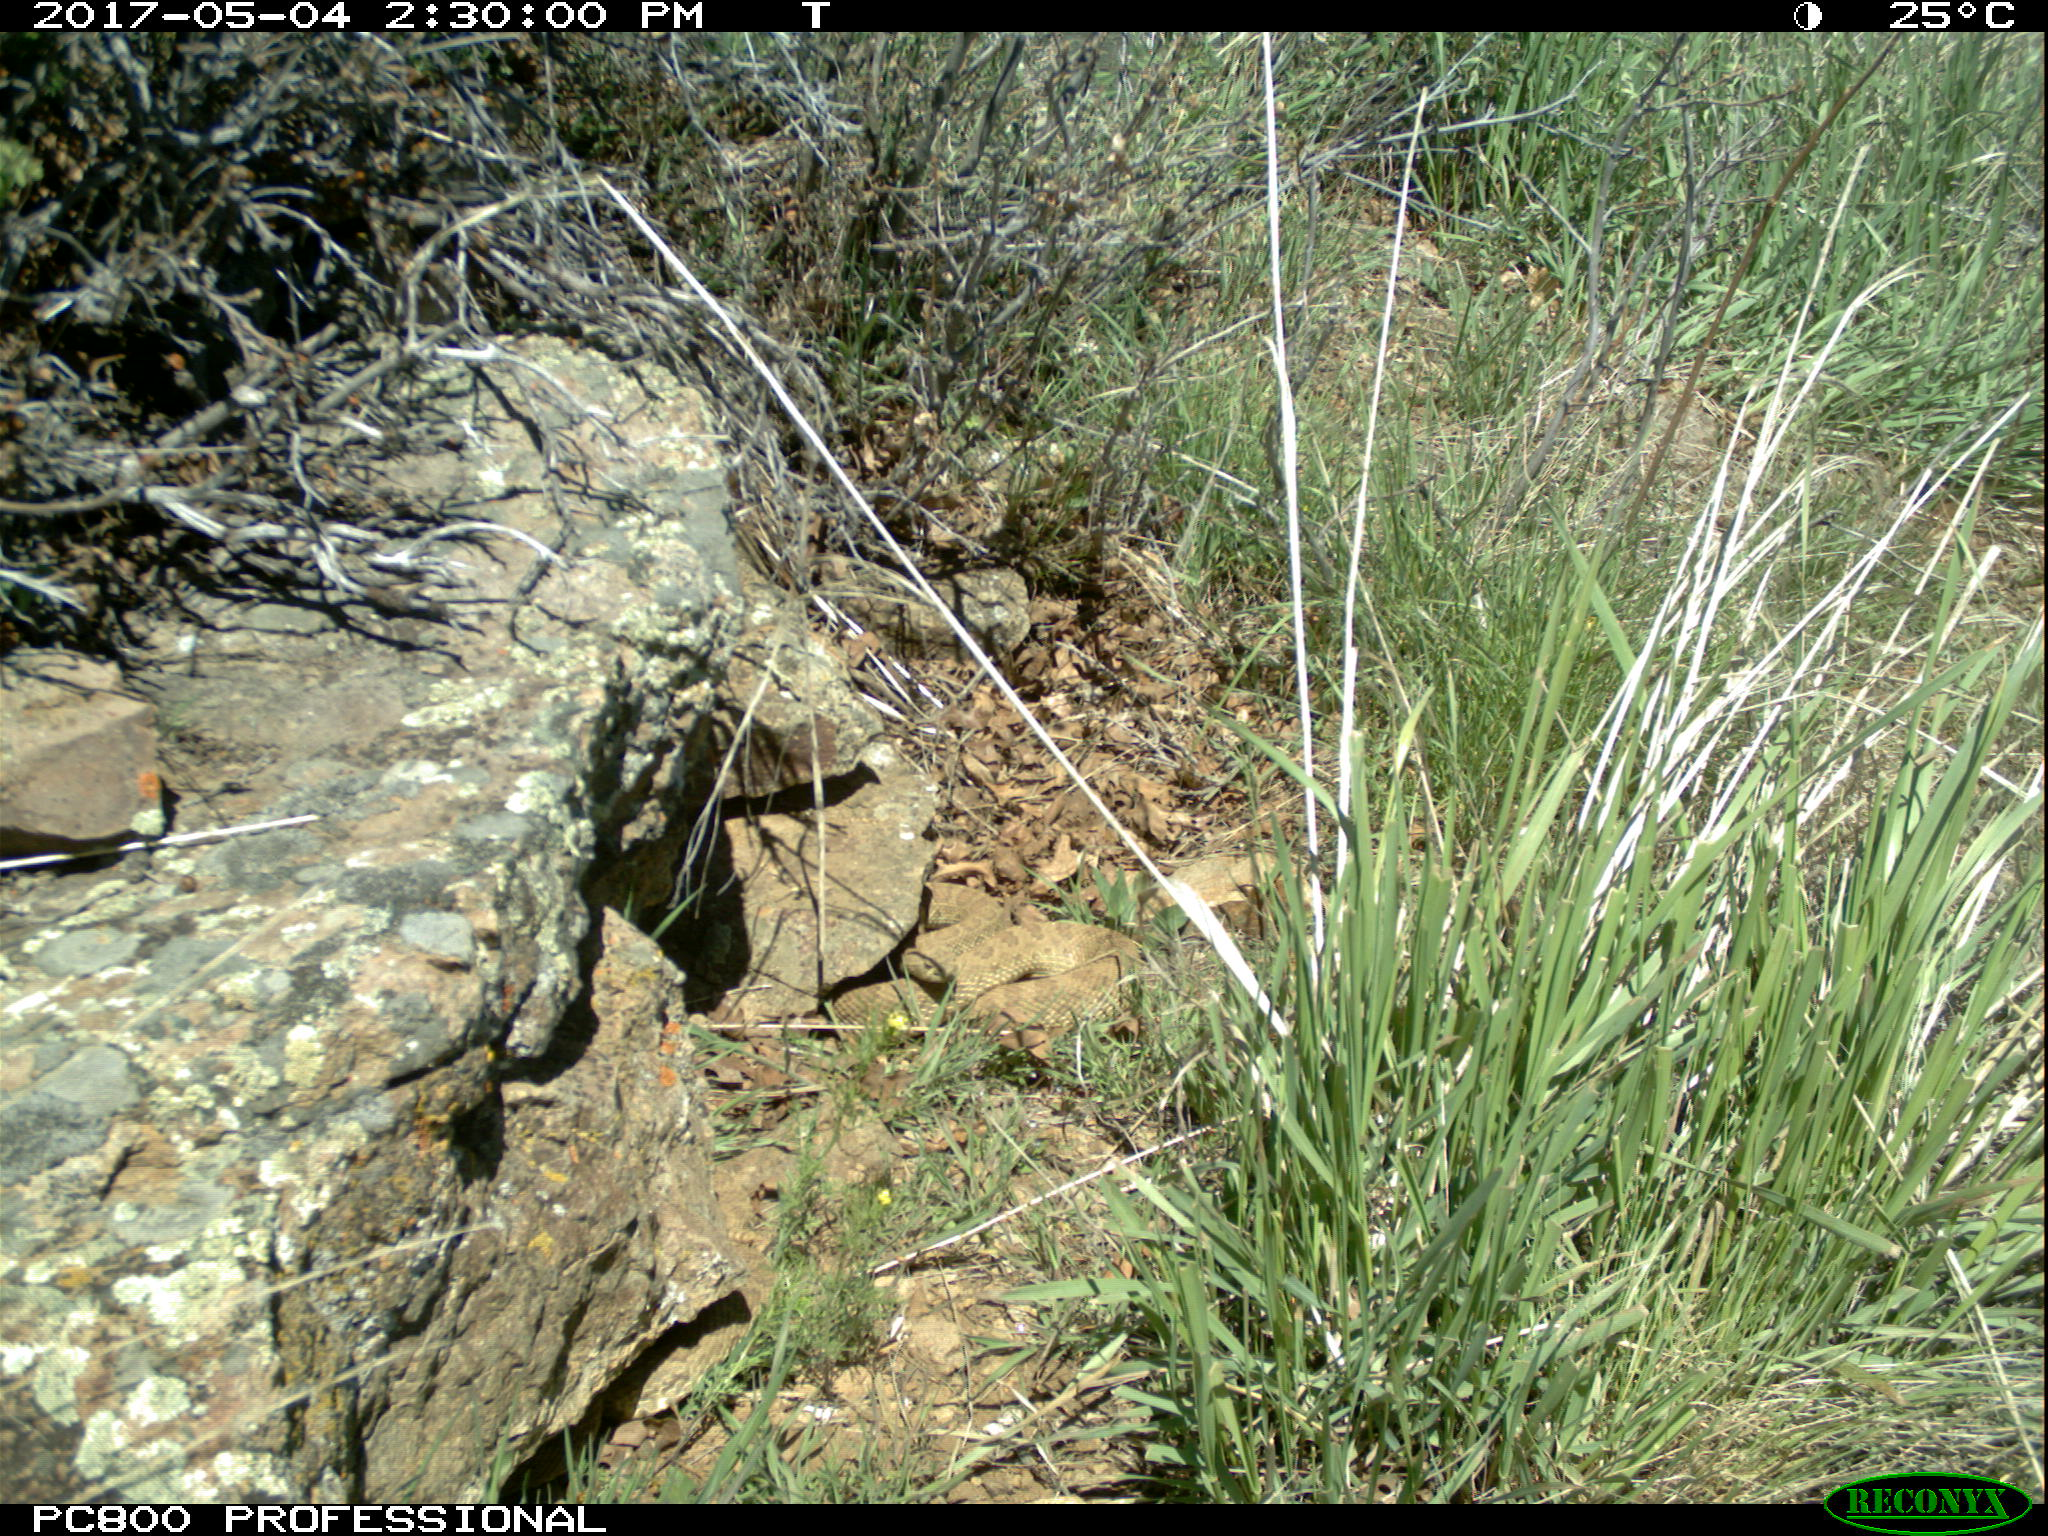snake: (826, 883, 1168, 1054), (627, 1326, 764, 1425)
